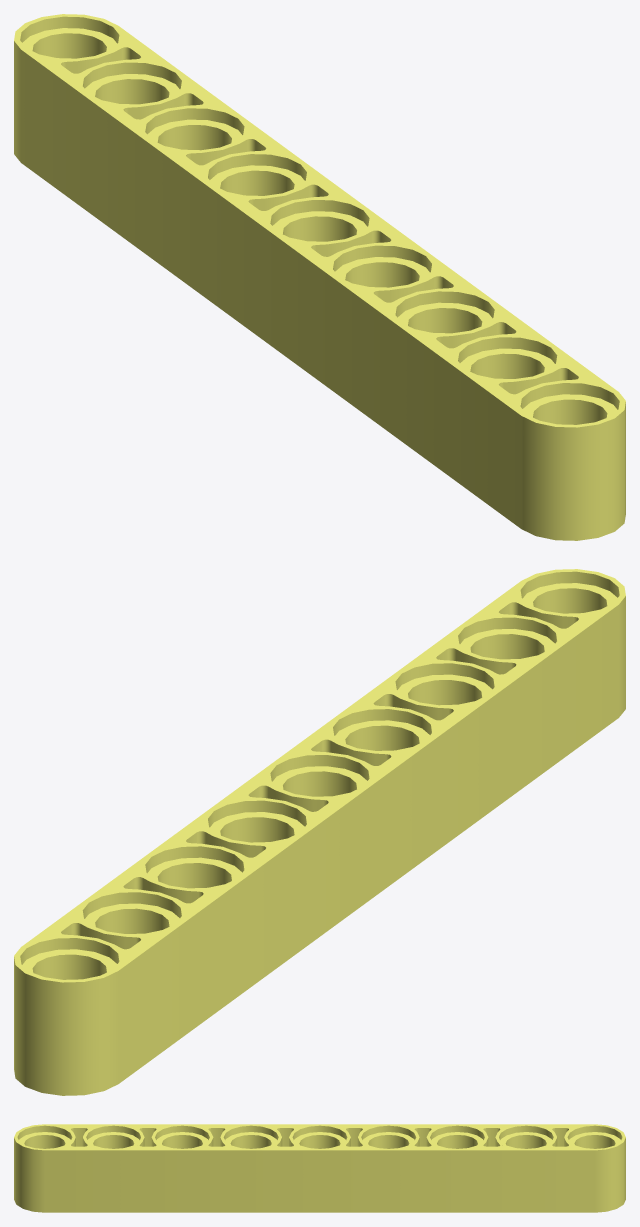
3 renders of one model, top to bottom at view 1: azimuth 30°, elevation 25°; view 2: azimuth 150°, elevation 25°; view 3: azimuth 270°, elevation 25°, orthographic. The views are drawn at different scales.
Visible parts, largest first — view 1: 40490.dat; view 2: 40490.dat; view 3: 40490.dat.
Part boxes in pixels (<box>): 40490.dat: <box>14,14,625,540</box>; 40490.dat: <box>14,569,625,1095</box>; 40490.dat: <box>14,1124,625,1212</box>.
Size of the model in its own units: 0.0072 by 0.008 by 0.0712.
